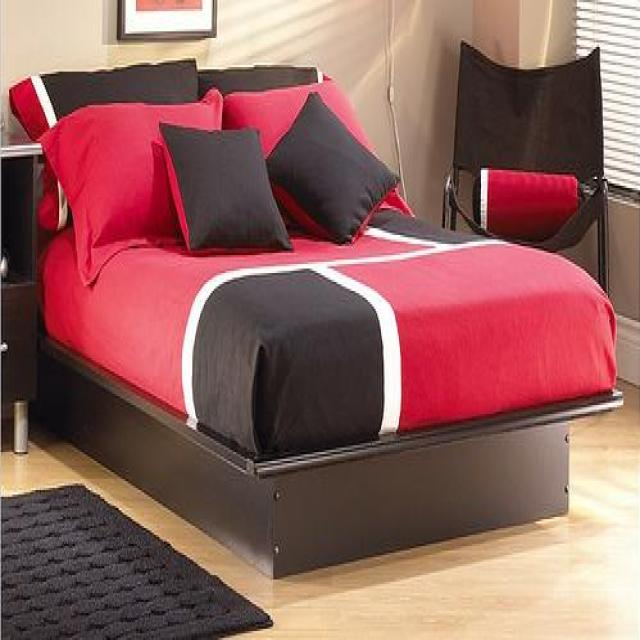bed: (20, 65, 621, 580)
